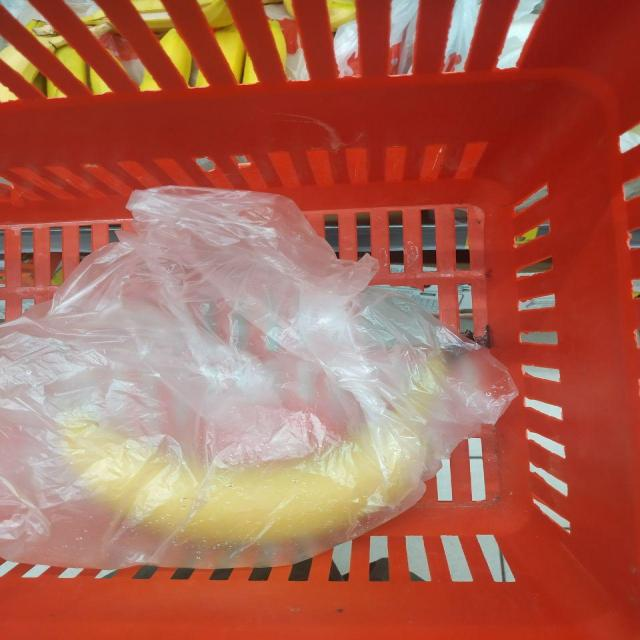banana: (174, 259, 551, 640)
